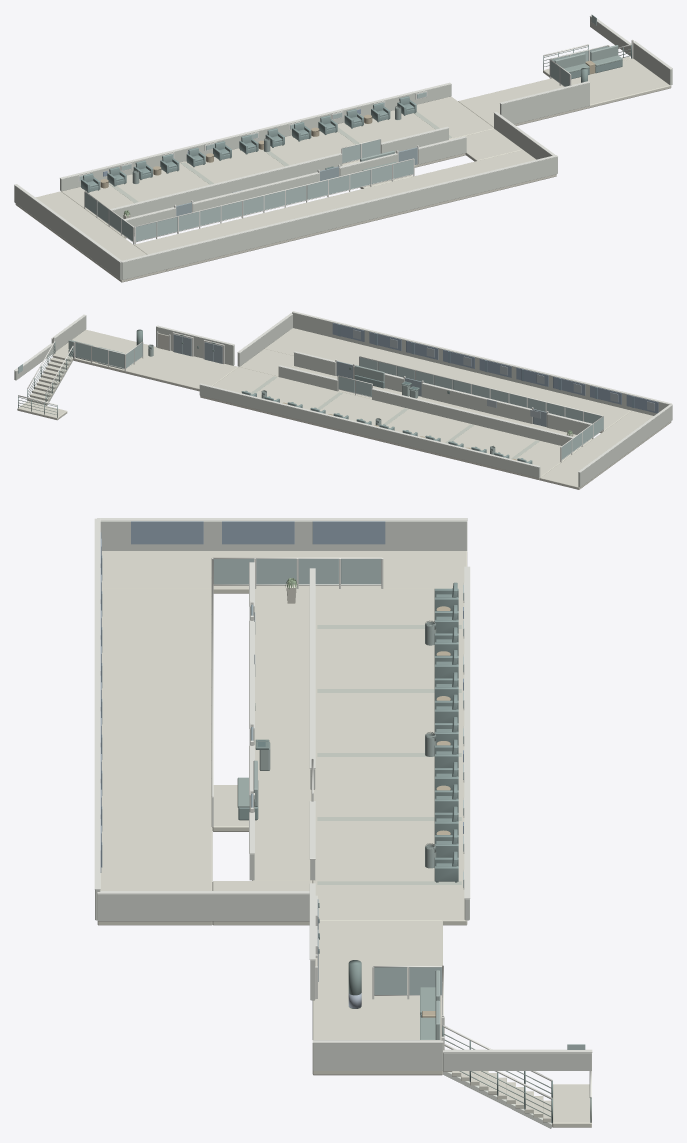
The model's file is floor-3.glb.
3 renders of one model, top to bottom at view 1: azimuth 30°, elevation 25°; view 2: azimuth 150°, elevation 25°; view 3: azimuth 270°, elevation 25°, orthographic. The views are drawn at different scales.
Visible parts, largest first — view 1: Long window lounge, Mural corridor south, Mural corridor, Upper lift landing, Upper passage north, Window lounge north, Mural corridor · west return, Lift bank wall.001, Mural corridor west, Mural corridor · east return, Mural corridor south · pale cut edge, Upper restroom fronts.001 (+10 smaller); view 2: Long window lounge, Mural corridor, Upper lift landing, Window lounge north, Mural corridor south, Mural corridor · west return, Upper passage north, Mural corridor west, Upper restroom fronts.001, Mural corridor south · pale cut edge, Mural corridor · east return, Upper restroom passage (+23 smaller); view 3: Long window lounge, Mural corridor, Upper restroom passage, Upper lift landing, Mural corridor · west return, Mural corridor west, Mural corridor east, Upper lobby east, Stairwell window wall, Mural corridor south · pale cut edge, Window lounge north · pale cut edge, Campus mural return.002 (+12 smaller).
Part boxes in pixels (x1,y1,x2,y2): Long window lounge: (61, 96, 493, 223); Mural corridor south: (121, 156, 557, 279); Mural corridor: (134, 150, 556, 271); Upper lift landing: (458, 58, 671, 127); Upper passage north: (112, 154, 342, 218); Window lounge north: (60, 84, 451, 191); Mural corridor · west return: (15, 191, 166, 282); Lift bank wall.001: (500, 82, 589, 124); Mural corridor west: (14, 185, 121, 279); Mural corridor · east return: (465, 129, 522, 161); Mural corridor south · pale cut edge: (120, 155, 557, 262); Upper restroom fronts.001: (192, 173, 319, 212); Long window lounge: (200, 367, 577, 480); Mural corridor: (265, 328, 631, 432); Upper lift landing: (53, 329, 237, 391); Window lounge north: (199, 385, 540, 477); Mural corridor south: (292, 312, 668, 415); Mural corridor · west return: (540, 410, 671, 489); Upper passage north: (372, 389, 571, 445); Mural corridor west: (578, 405, 672, 487); Upper restroom fronts.001: (422, 384, 532, 423); Mural corridor south · pale cut edge: (292, 311, 671, 404); Mural corridor · east return: (239, 349, 293, 376); Upper restroom passage: (292, 366, 592, 449); Long window lounge: (312, 589, 467, 925); Mural corridor: (97, 589, 212, 925); Upper restroom passage: (252, 589, 312, 881); Upper lift landing: (312, 920, 442, 1075); Mural corridor · west return: (102, 551, 467, 593); Mural corridor west: (100, 521, 467, 550); Mural corridor east: (97, 894, 309, 921); Upper lobby east: (312, 1043, 442, 1070); Stairwell window wall: (443, 1053, 591, 1070); Mural corridor south · pale cut edge: (94, 518, 100, 889); Window lounge north · pale cut edge: (464, 566, 470, 898); Campus mural return.002: (312, 521, 385, 544).
Bounding box in the file's own units: 40.8 × 3.84 × 16.43.
